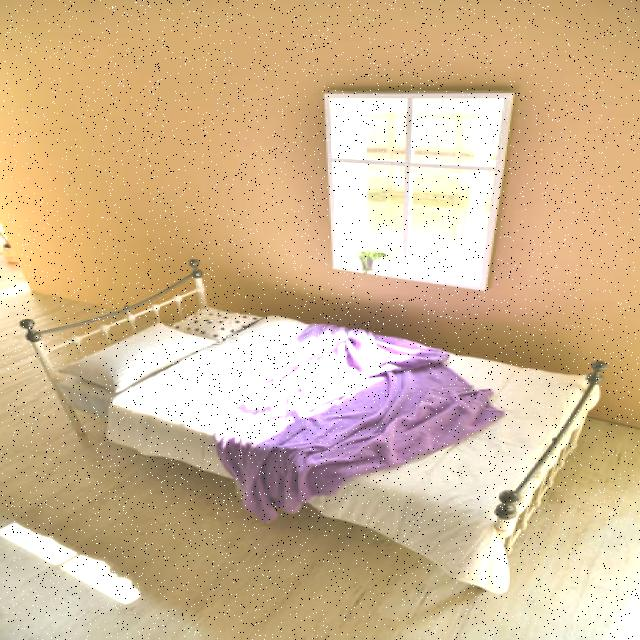bed: (55, 260, 600, 562)
